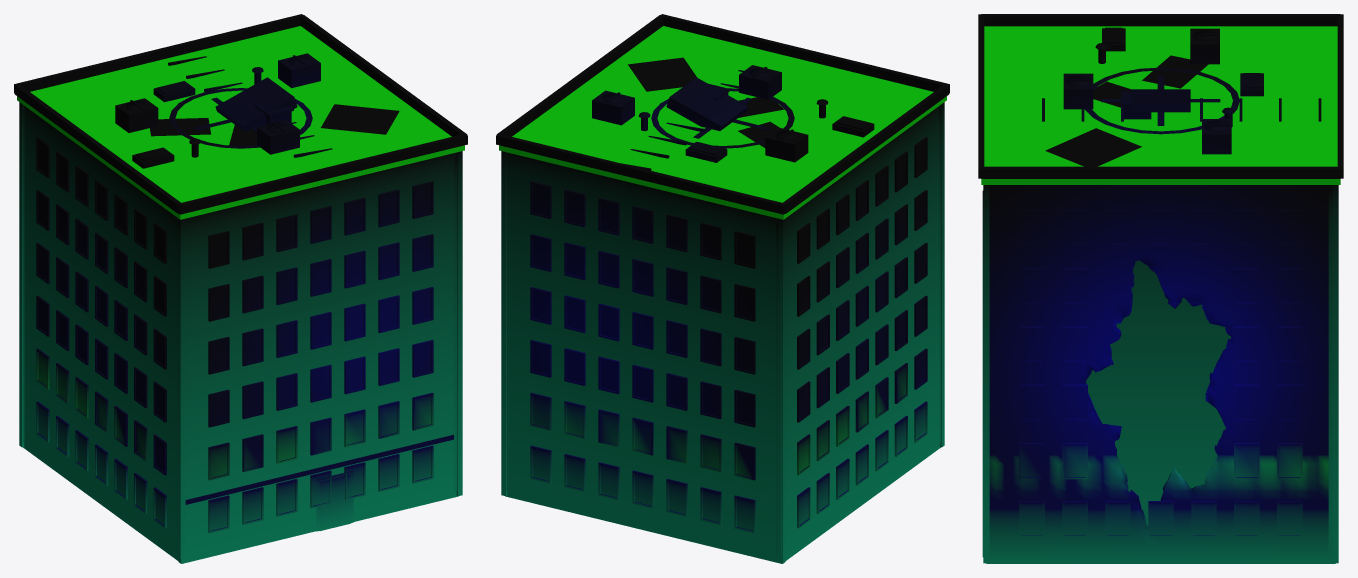
Rendered from city6storya_damaged.glb.
The picture shows the model from 3 angles, left to right: view 1: azimuth 30°, elevation 25°; view 2: azimuth 150°, elevation 25°; view 3: azimuth 270°, elevation 25°; orthographic projection. The views are drawn at different scales.
Visible parts, largest first — view 1: lod0; view 2: lod0; view 3: lod0.
Part boxes in pixels (box(x1,y1,x2,y2)): lod0: box(14, 14, 467, 563); lod0: box(496, 14, 949, 563); lod0: box(978, 14, 1343, 563).
Size of what is drawn, in the model's own units: 18.6 by 23.05 by 18.5.
